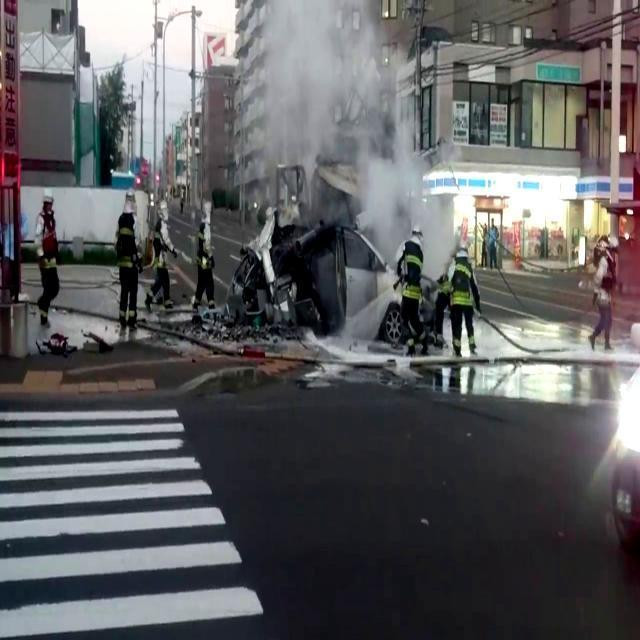Smoke: (257, 0, 439, 272)
